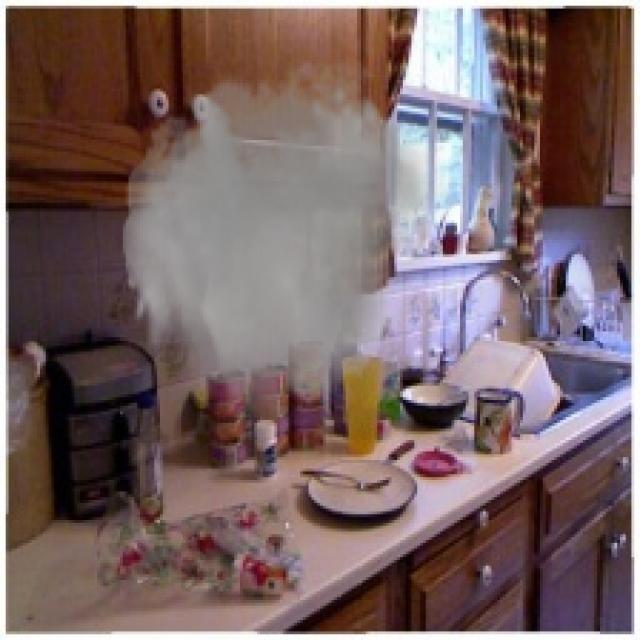Smoke: (114, 42, 457, 452)
